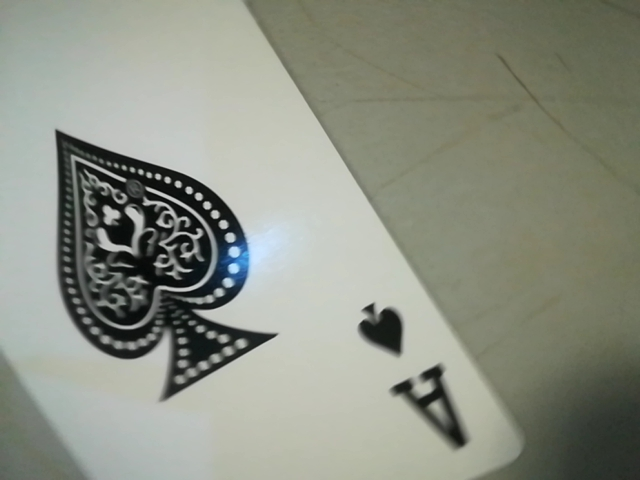ht a: (344, 292, 488, 472)
